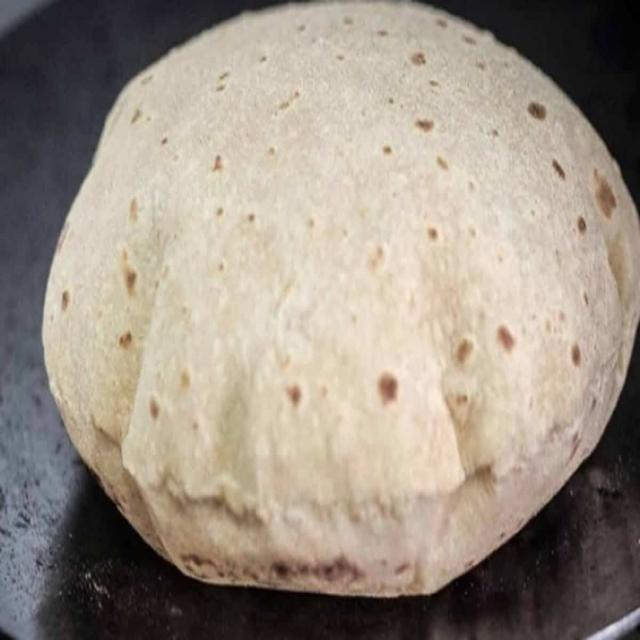ROTI: (42, 0, 639, 597)
